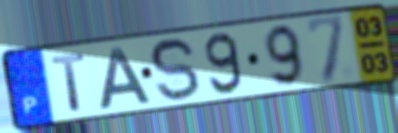7: (305, 13, 349, 86)
9: (260, 22, 307, 89), (204, 31, 245, 96)
A: (97, 45, 153, 112)
S: (148, 35, 203, 105)
T: (49, 50, 89, 114)
